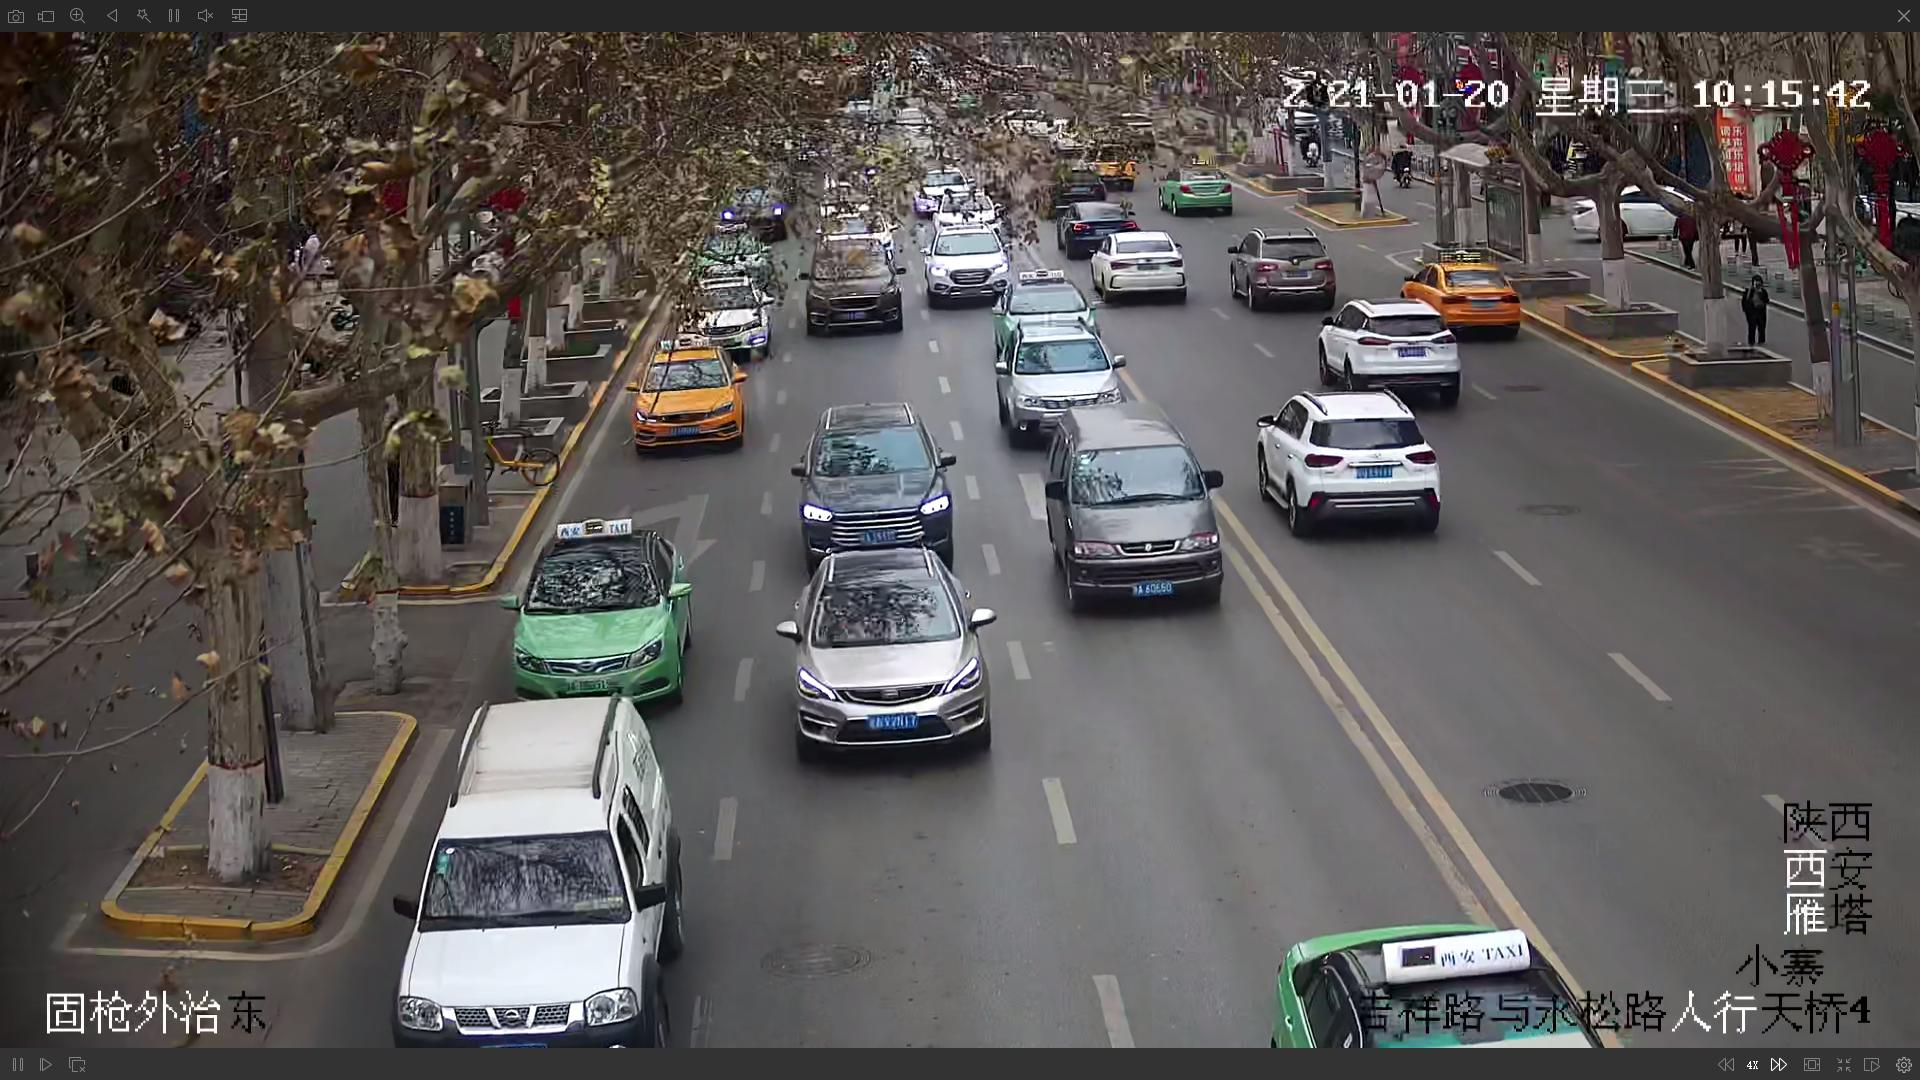grass-green: (510, 516, 680, 700)
gray: (1042, 411, 1222, 608)
silver-gray: (789, 549, 1004, 762)
white: (400, 705, 676, 1027)
